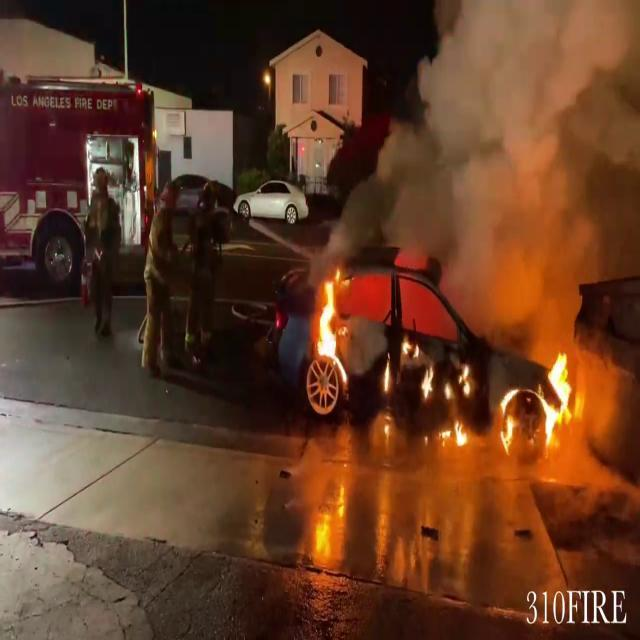Fire: (422, 354, 474, 450), (309, 268, 351, 382), (536, 344, 582, 446), (496, 387, 518, 452)
Smoke: (313, 0, 640, 309)
